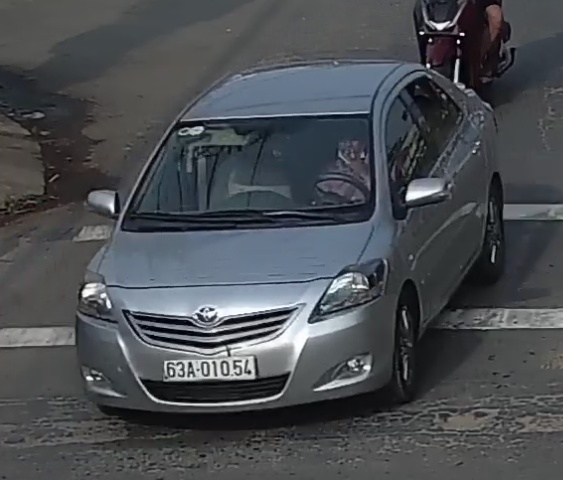vehicle plate: (159, 352, 261, 385)
